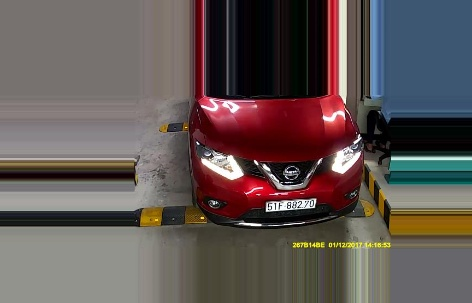plate: (263, 198, 314, 212)
